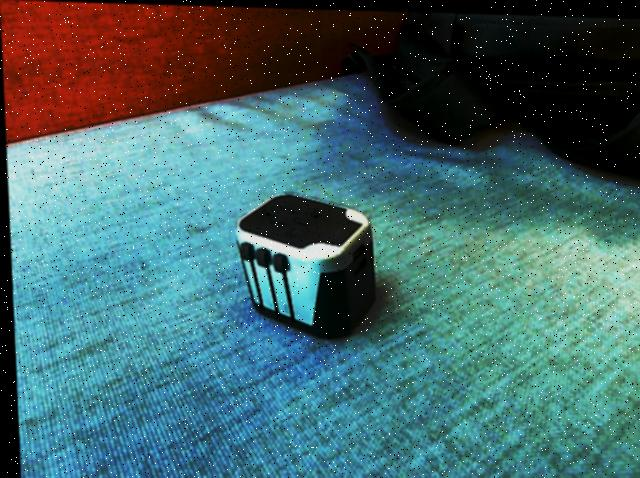adapter: (231, 189, 375, 338)
